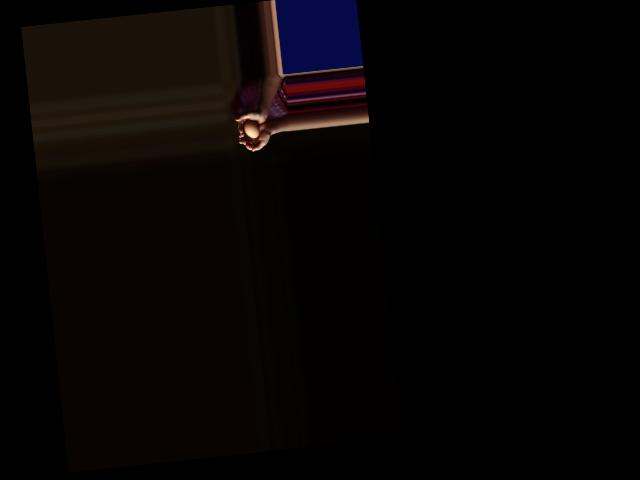egg: (242, 118, 259, 138)
